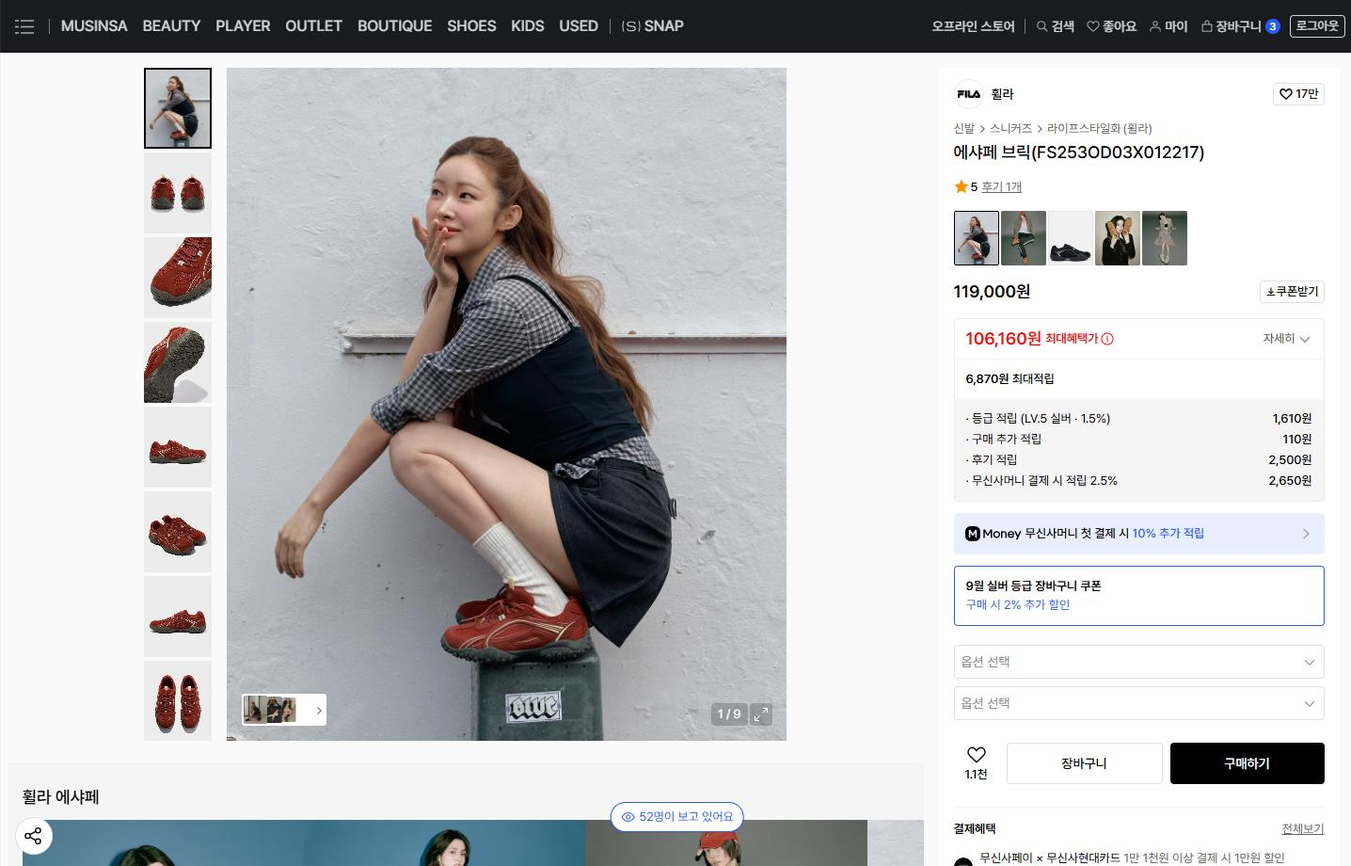button: (947, 522, 1322, 549), (126, 408, 219, 492), (1165, 741, 1332, 786), (609, 8, 753, 55), (135, 491, 216, 569), (136, 579, 222, 652), (149, 73, 221, 151), (146, 240, 219, 309), (1021, 753, 1164, 787), (136, 161, 208, 220), (136, 672, 205, 732), (155, 331, 214, 399), (923, 20, 1029, 51), (352, 12, 426, 48), (613, 804, 740, 824), (67, 13, 131, 48), (142, 15, 209, 48), (488, 7, 549, 42), (273, 16, 343, 46), (1282, 15, 1351, 44), (1257, 314, 1312, 348), (562, 11, 612, 44), (1201, 11, 1258, 39), (214, 15, 262, 47), (1271, 271, 1321, 301), (1087, 11, 1138, 40), (1145, 14, 1194, 42), (1271, 82, 1323, 104), (442, 18, 490, 39), (1045, 16, 1078, 40), (747, 710, 776, 726)
checkbox: (956, 684, 1337, 728), (956, 661, 1323, 678)
